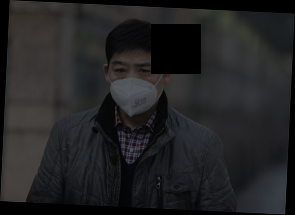with_mask: (107, 59, 164, 117)
